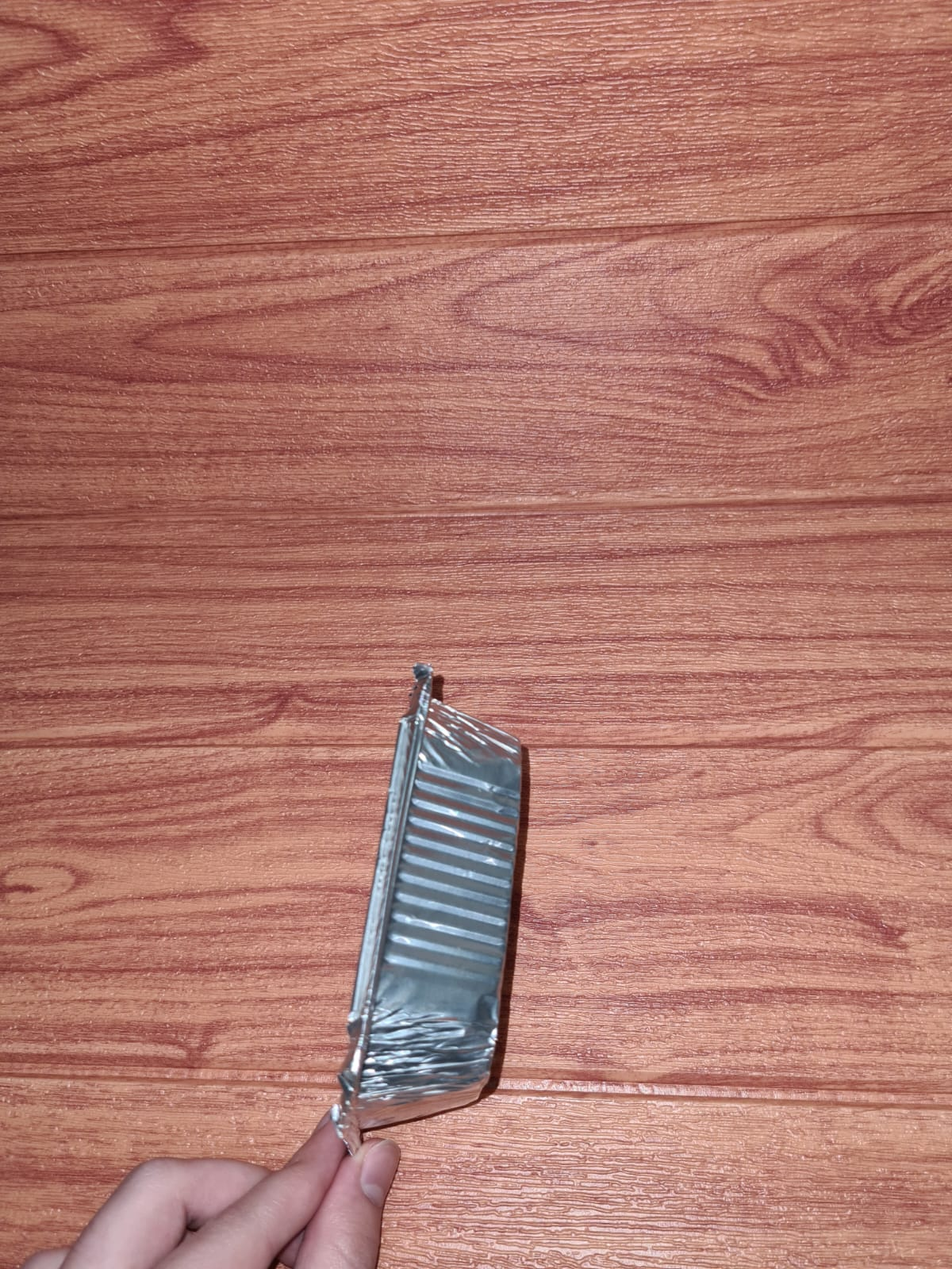Metal: (312, 672, 556, 1121)
